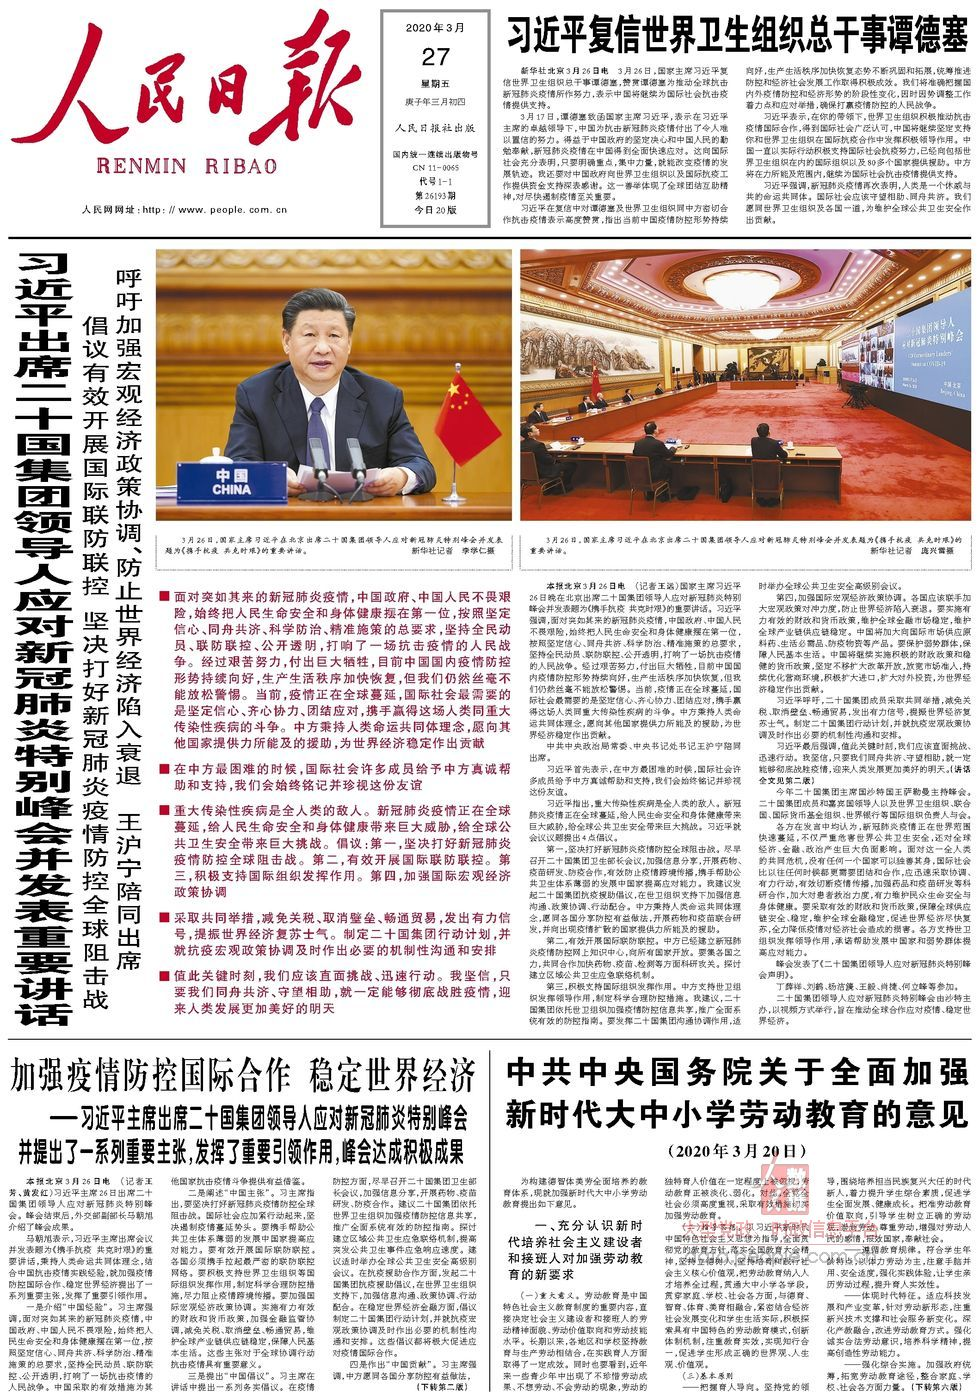pic: (520, 244, 977, 528), (152, 244, 517, 526)
